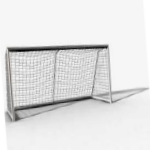goals: (1, 43, 113, 122)
